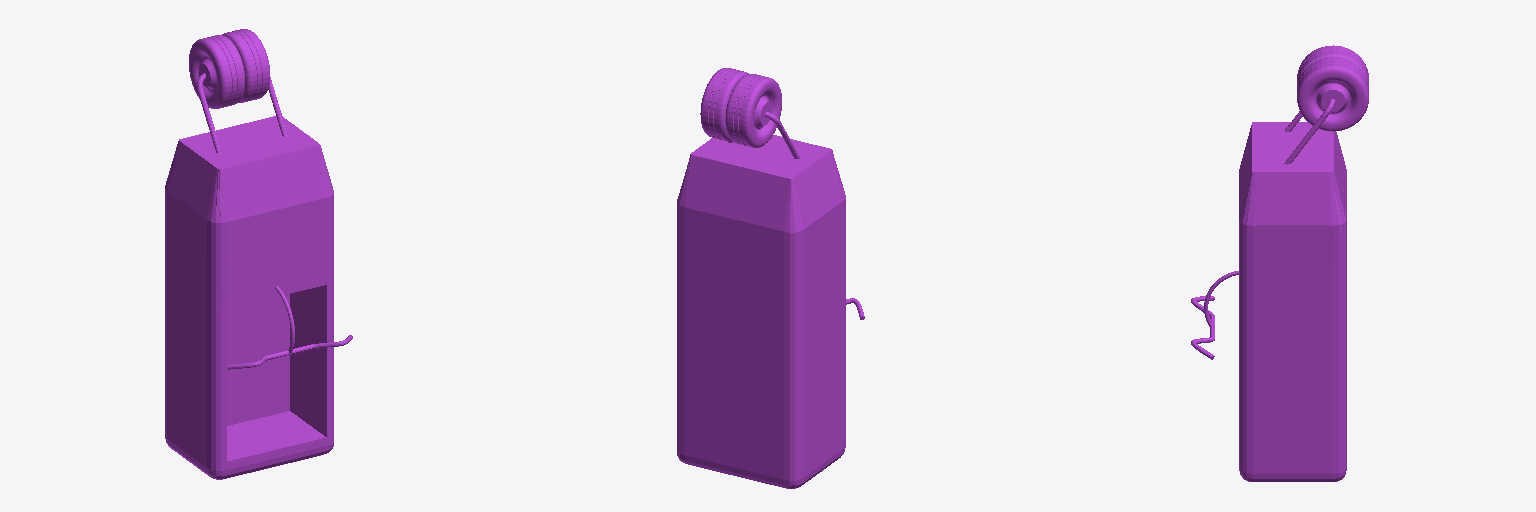
Rendered from Motor.obj.
3 renders of one model, left to right at view 1: azimuth 30°, elevation 25°; view 2: azimuth 150°, elevation 25°; view 3: azimuth 270°, elevation 25°, orthographic.
Visible parts, largest first — view 1: BodyMotor; view 2: BodyMotor; view 3: BodyMotor.
Boxes of the visible parts, box(x1,y1,x2,y2) form: BodyMotor: box(165, 29, 352, 479); BodyMotor: box(677, 68, 864, 488); BodyMotor: box(1191, 45, 1368, 481).
Size of the model in its own units: 39.56 by 121 by 48.69.